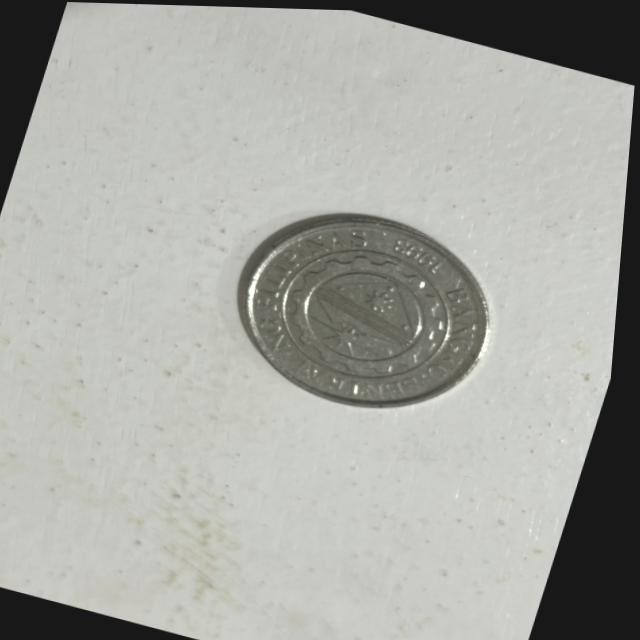1_Old_Back: (257, 219, 472, 395)
